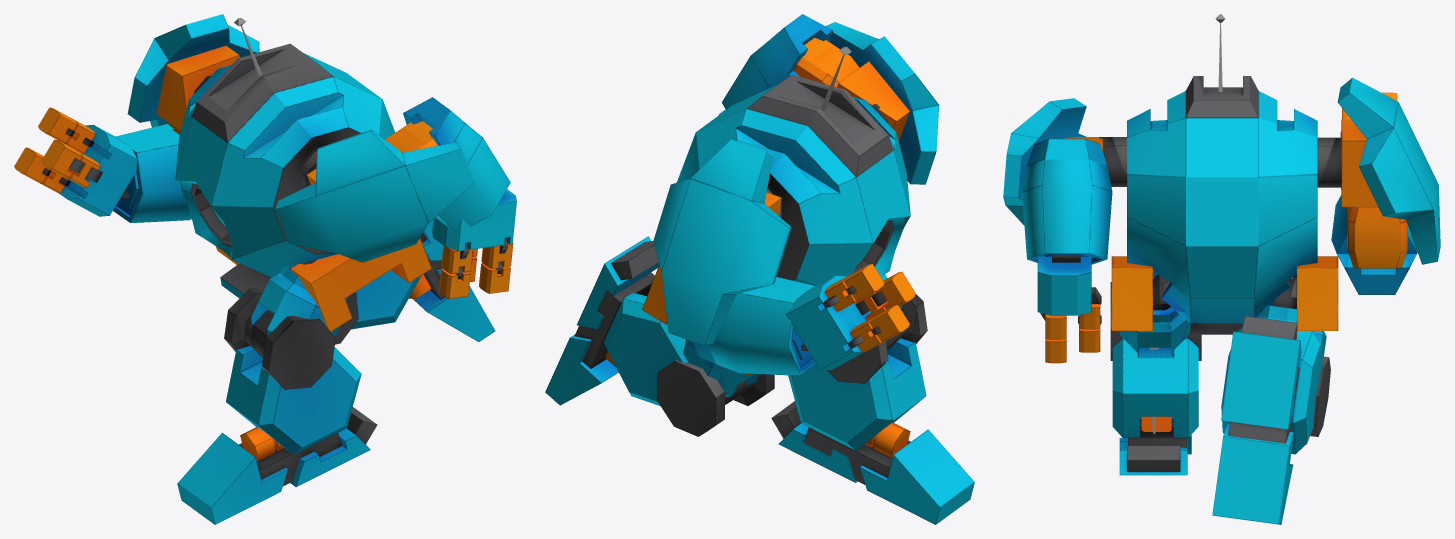
The model's file is Walk22.obj.
3 views of the same model, side by side, from view 1: azimuth 30°, elevation 25°; view 2: azimuth 150°, elevation 25°; view 3: azimuth 270°, elevation 25° (orthographic). The views are drawn at different scales.
Parts seen in each view (by area): view 1: Plane001, Object006, Object013, Object014, Object002, Object004, Object008, Object007, Object003, Object011, Object010, Object012; view 2: Plane001, Object002, Object013, Object014, Object010, Object006, Object004, Object003, Object011, Object007, Object009; view 3: Plane001, Object002, Object011, Object007, Object013, Object008, Object006, Object010, Object014, Object003, Object012, Object001 (+2 smaller).
Boxes of the visible parts, x1,y1,x2,y2 form: Plane001: (175, 43, 431, 331); Object006: (275, 121, 474, 262); Object013: (224, 288, 361, 454); Object014: (177, 407, 377, 524); Object002: (127, 14, 259, 134); Object004: (14, 107, 137, 216); Object008: (432, 189, 516, 298); Object007: (403, 97, 510, 231); Object003: (113, 123, 191, 222); Object011: (409, 220, 495, 341); Object010: (335, 270, 421, 344); Object012: (251, 259, 348, 336); Plane001: (642, 74, 910, 375); Object002: (653, 139, 791, 345); Object013: (788, 278, 927, 450); Object014: (771, 401, 974, 524); Object010: (603, 292, 774, 436); Object006: (794, 22, 939, 184); Object004: (786, 264, 915, 370); Object003: (692, 277, 815, 375); Object011: (545, 236, 659, 405); Object007: (722, 14, 833, 109); Object009: (683, 339, 759, 396); Plane001: (1111, 76, 1338, 334); Object002: (1337, 77, 1440, 268); Object011: (1212, 316, 1301, 524); Object007: (1022, 138, 1112, 264); Object013: (1110, 282, 1201, 437); Object008: (1037, 255, 1101, 363); Object006: (1003, 98, 1102, 225); Object010: (1221, 328, 1330, 454); Object014: (1119, 416, 1191, 475); Object003: (1331, 195, 1417, 294); Object012: (1119, 274, 1190, 356); Object001: (1317, 137, 1341, 187).
Bounding box in the file's own units: 195 × 211 × 182.
